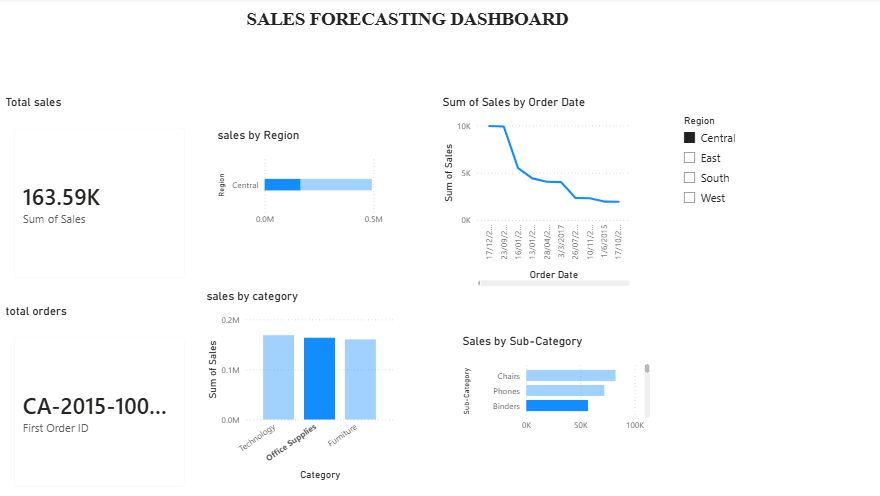

What the dashboard file says about the page in this screenshot:
{"tool":"powerbi","page":{"name":"Page 1","canvas":[1280,720],"ordinal":0},"visuals":[{"type":"cardVisual","title":"Total sales","fields":{"Data":["Sum(sales.Sales)"]},"box":[10.1,139.7,280,280],"z":0},{"type":"clusteredColumnChart","title":"sales by category","fields":{"Category":["sales.Category"],"Y":["Sum(sales.Sales)"]},"box":[299.5,419,280,280],"z":1000},{"type":"clusteredBarChart","title":"sales by Region","fields":{"Y":["Sum(sales.Sales)"],"Category":["sales.Region"]},"box":[315.4,187.2,280,150],"z":1001},{"type":"lineChart","fields":{"Category":["sales.Order Date"],"Y":["Sum(sales.Sales)"]},"box":[639.4,139.7,280,280],"z":1002},{"type":"cardVisual","title":"total orders","fields":{"Data":["Min(sales.Order ID)"]},"box":[10.1,440.6,280,280],"z":1003},{"type":"clusteredBarChart","title":" Sales by Sub-Category","fields":{"Category":["sales.Sub-Category"],"Y":["Sum(sales.Sales)"]},"box":[668.2,483.8,280,150],"z":1004},{"type":"slicer","fields":{"Values":["sales.Region"]},"box":[979.2,162.7,280,280],"z":1005},{"type":"textbox","box":[357.1,10.1,622.1,129.6],"z":1006}]}

Visuals, with their boxes in screenshot pixels (x1, y1, x2, y2), scaled from the page's 1280x720 canvas onto the 880x496 screenshot:
"Total sales" cardVisual: [7,96,199,289]
"sales by category" clusteredColumnChart: [206,289,398,482]
"sales by Region" clusteredBarChart: [217,129,409,232]
lineChart - sales.Order Date x Sum(sales.Sales): [440,96,632,289]
"total orders" cardVisual: [7,304,199,495]
" Sales by Sub-Category" clusteredBarChart: [459,333,652,437]
slicer - sales.Region: [673,112,866,305]
textbox: [246,7,673,96]
